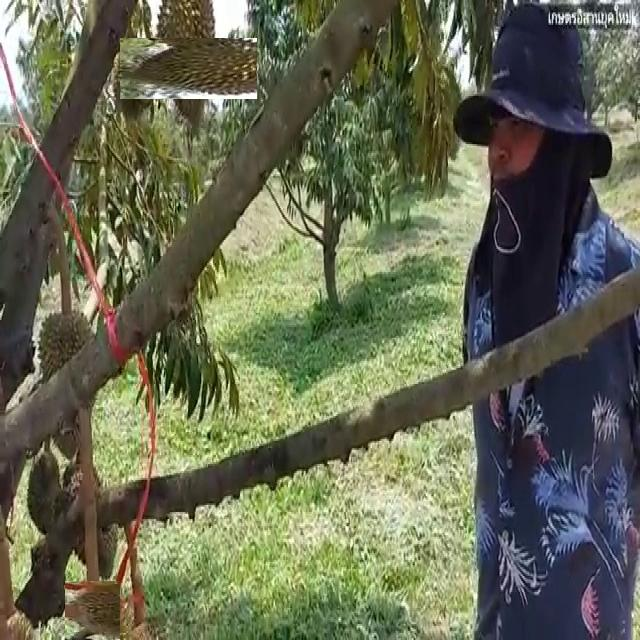durian: (34, 304, 98, 468), (139, 19, 238, 119), (27, 444, 68, 545), (64, 581, 122, 640)
